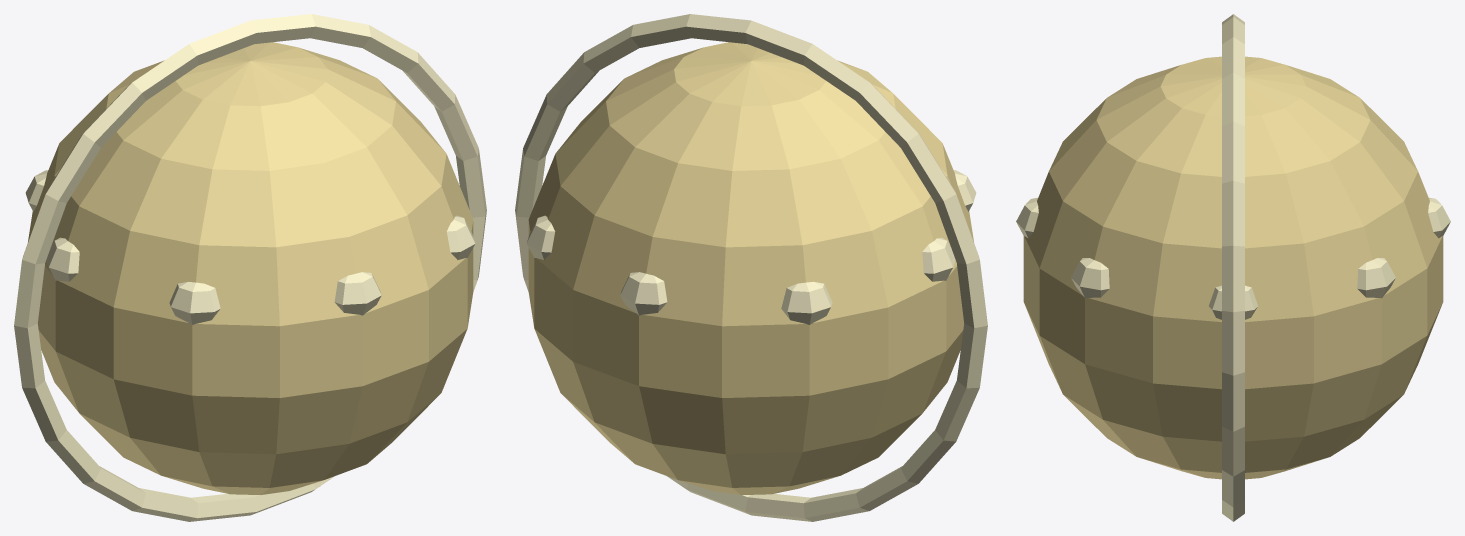
Rendered from meteorito_dorado.glb.
3 views of the same model, side by side, from view 1: azimuth 30°, elevation 25°; view 2: azimuth 150°, elevation 25°; view 3: azimuth 270°, elevation 25° (orthographic). The views are drawn at different scales.
Parts seen in each view (by area): view 1: meteorito_dorado; view 2: meteorito_dorado; view 3: meteorito_dorado.
Boxes of the visible parts, x1,y1,x2,y2 form: meteorito_dorado: [14, 14, 486, 521]; meteorito_dorado: [515, 14, 987, 521]; meteorito_dorado: [1016, 14, 1450, 521].
Size of the model in its own units: 1.2 by 1.2 by 1.02.
